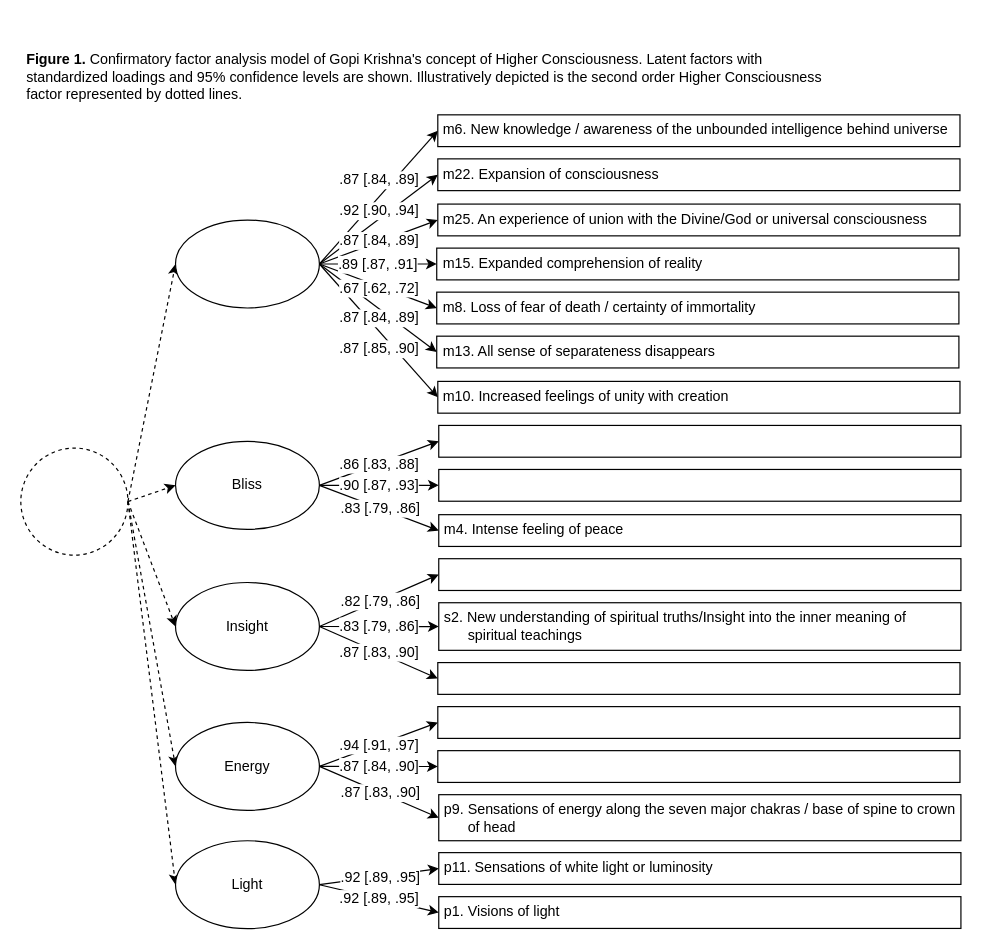
Some shapes in this 982 by 950 pixel diagram are drawn without their labels. The centre of each missing label's shape, as x and y in pixels:
"Higher Consciousness" belongs at point (74, 501).
"m5. Overwhelming sense of love" belongs at point (699, 440).
"m7. Overwhelming sense of wonder and awe" belongs at point (699, 484).
"p3. Sensations of energy rushing up the spine" belongs at point (698, 765).
"p5. Feelings of energy flowing or vibrating within" belongs at point (698, 721).
"s26. A profound insight into the inner workings of the Cosmos" belongs at point (698, 677).
"s3. An unshakable conviction about the reality of the experience" belongs at point (699, 574).
"Unity-Consciousness" belongs at point (246, 263).
